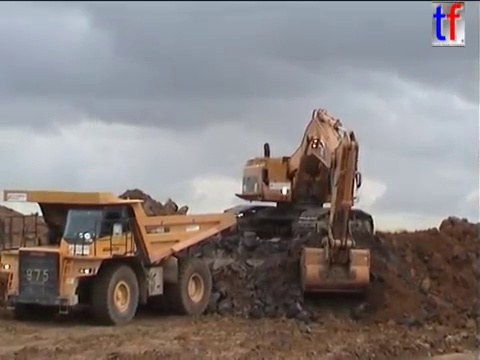excavator: (220, 106, 376, 297)
truck: (1, 188, 239, 327)
